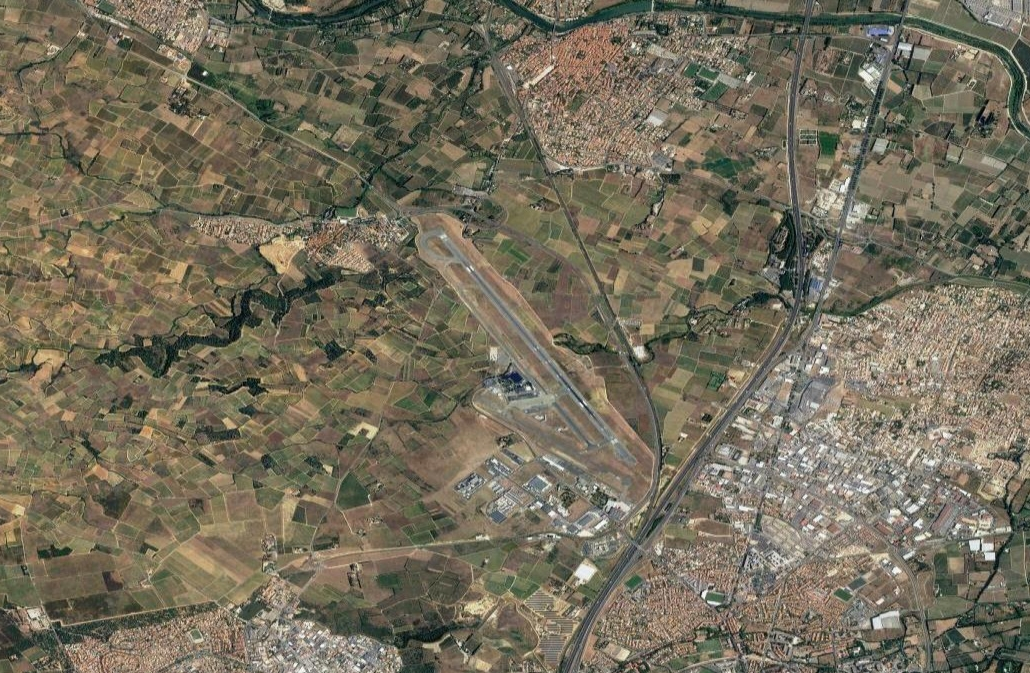airport: (416, 224, 641, 536)
motorway: (627, 486, 676, 559), (715, 368, 764, 431), (670, 428, 717, 490), (588, 553, 629, 616), (758, 310, 797, 372), (567, 612, 597, 673), (793, 1, 814, 70), (787, 148, 803, 237), (787, 69, 801, 148), (792, 236, 804, 311)
